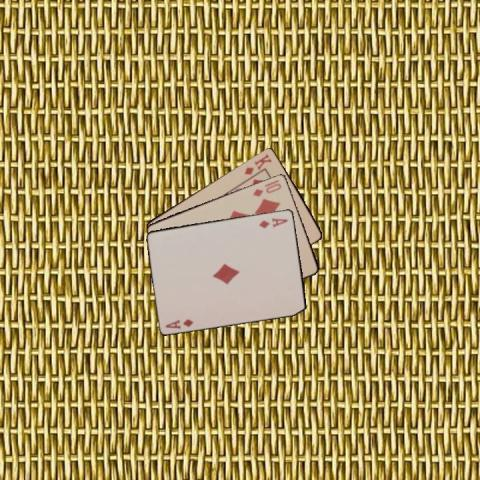10d: (249, 180, 283, 197)
Ad: (256, 215, 289, 229), (162, 316, 195, 330)
Kd: (242, 151, 274, 176)
